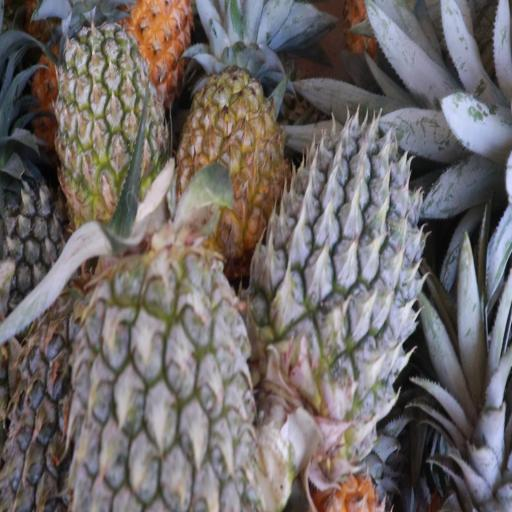------------------------------: (54, 20, 164, 230)
Pineapple - v8 v1: (174, 67, 283, 246)
